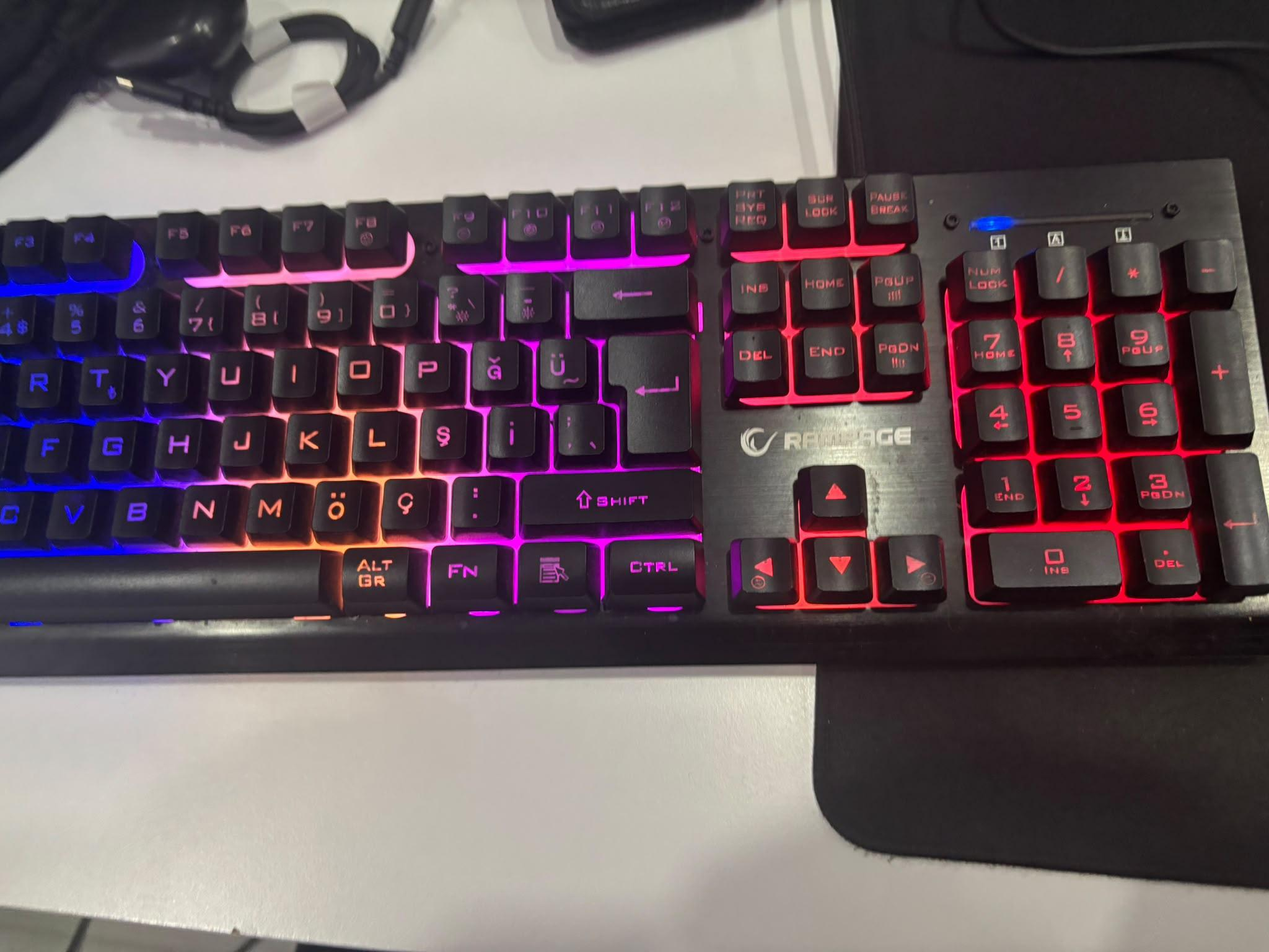cable: (108, 0, 435, 139), (954, 0, 1268, 58)
keyboard: (0, 157, 1268, 679)
